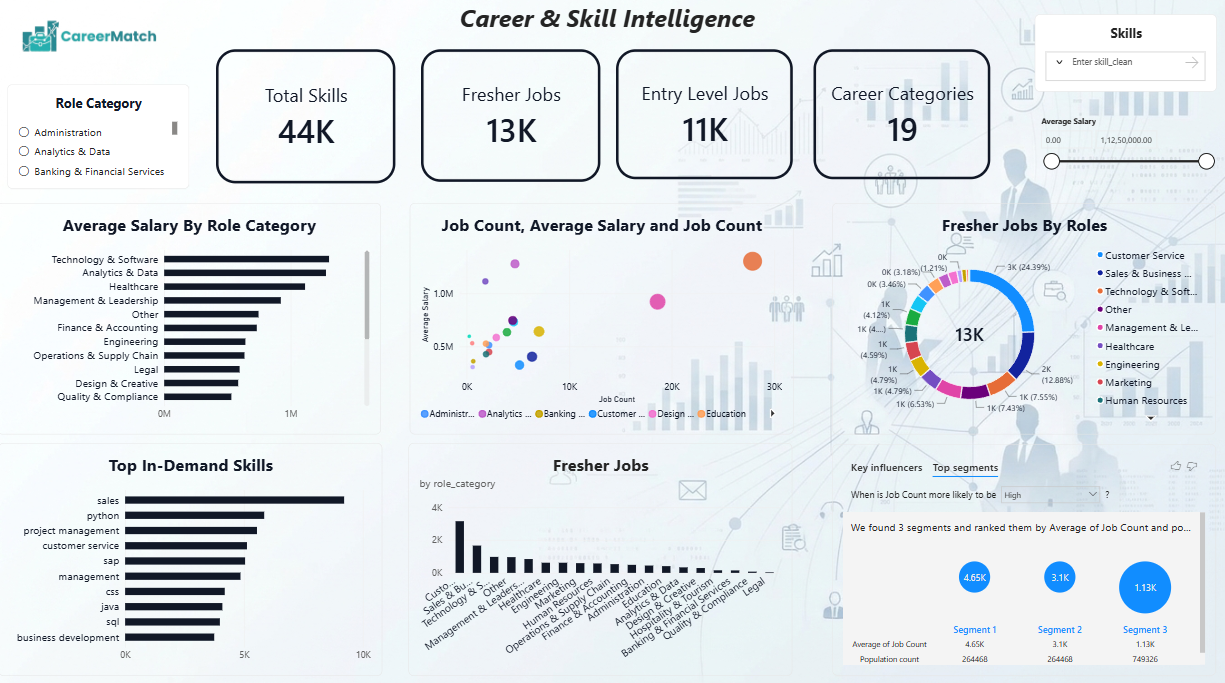

The page's visual inventory and layout, read from the dashboard file:
{"tool":"powerbi","page":{"name":"Career & Skill Intelligence","canvas":[1920,1080],"ordinal":2},"visuals":[{"type":"barChart","title":"Top In-Demand Skills","fields":{"Category":["job_skills_final.skill_clean"],"Y":["CountNonNull(job_skills_final.jobId)"]},"box":[12,700,590,358],"z":0},{"type":"clusteredBarChart","title":"Average Salary By Role Category","fields":{"Category":["career_match vw_fresher_opportunities.role_category"],"Y":["Avg(career_match vw_salary_analysis.averageSalary_num)"]},"box":[10,330,590,356],"z":1000},{"type":"scatterChart","title":"Job Count, Average Salary and Job Count","fields":{"X":["DimJob.Job Count"],"Y":["DimJob.Average Salary"],"Series":["career_match vw_fresher_opportunities.role_category"],"Size":["DimJob.Job Count"]},"box":[644,330,590,356],"z":2000},{"type":"donutChart","title":"Fresher Jobs By Roles","fields":{"Category":["career_match vw_fresher_opportunities.role_category"],"Y":["DimJob.Fresher Jobs"]},"box":[1294,330,590,356],"z":3000},{"type":"keyDriversVisual","fields":{"Target":["DimJob.Job Count"],"ExplainBy":["career_match vw_fresher_opportunities.role_category","career_match vw_job_market.Experience Group","job_skills_final.skill_clean"]},"box":[1294,702,590,356],"z":4000},{"type":"columnChart","fields":{"Y":["DimJob.Fresher Jobs"],"Category":["career_match vw_fresher_opportunities.role_category"]},"box":[642,700,590,358],"z":5000},{"type":"cardVisual","fields":{"Data":["job_skills_final.Total Skills"]},"box":[346,94,276,206],"z":6000},{"type":"cardVisual","fields":{"Data":["DimJob.Fresher Jobs"]},"box":[662,94,276,204],"z":7000},{"type":"cardVisual","fields":{"Data":["job_skills_final.Career Categories"]},"box":[1266,94,272,200],"z":8000},{"type":"cardVisual","fields":{"Data":["job_skills_final.Entry Level Jobs"]},"box":[962,94,272,200],"z":9000},{"type":"listSlicer","title":"Role Category","fields":{"Values":["career_match vw_fresher_opportunities.role_category"]},"box":[24.7,148.2,279.9,160.5],"z":10000},{"type":"slicer","fields":{"Values":["DimJob.averageSalary_num"]},"box":[1607.6,195.5,277.9,109.1],"z":11000},{"type":"textSlicer","title":"Skills","fields":{"Values":["job_skills_final.skill_clean"]},"box":[1605.5,41.2,279.9,119.4],"z":12000},{"type":"image","box":[26.8,0,249.1,148.2],"z":13000},{"type":"textbox","box":[720.4,18.5,475.5,76.2],"z":14000}]}

Visuals, with their boxes in screenshot pixels (x1, y1, x2, y2), scaled from the page's 1920x1080 canvas onto the 1225x683 screenshot:
"Top In-Demand Skills" barChart: box(8, 443, 384, 669)
"Average Salary By Role Category" clusteredBarChart: box(6, 209, 383, 434)
"Job Count, Average Salary and Job Count" scatterChart: box(411, 209, 787, 434)
"Fresher Jobs By Roles" donutChart: box(826, 209, 1202, 434)
keyDriversVisual - DimJob.Job Count x career_match vw_fresher_opportunities.role_category: box(826, 444, 1202, 669)
columnChart - DimJob.Fresher Jobs x career_match vw_fresher_opportunities.role_category: box(410, 443, 786, 669)
cardVisual - job_skills_final.Total Skills: box(221, 59, 397, 190)
cardVisual - DimJob.Fresher Jobs: box(422, 59, 598, 188)
cardVisual - job_skills_final.Career Categories: box(808, 59, 981, 186)
cardVisual - job_skills_final.Entry Level Jobs: box(614, 59, 787, 186)
"Role Category" listSlicer: box(16, 94, 194, 195)
slicer - DimJob.averageSalary_num: box(1026, 124, 1203, 193)
"Skills" textSlicer: box(1024, 26, 1203, 102)
image: box(17, 0, 176, 94)
textbox: box(460, 12, 763, 60)
